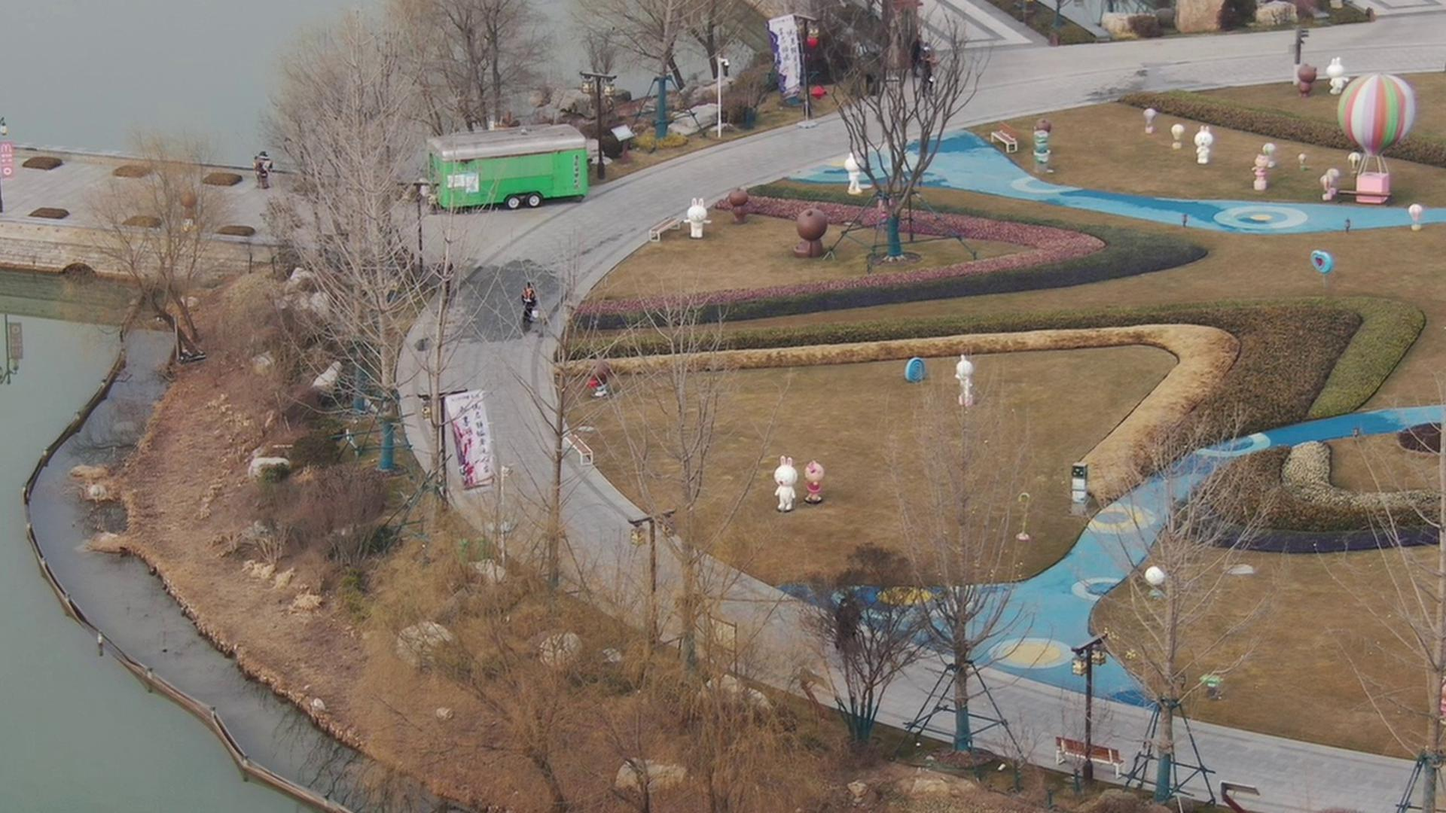class_2: (825, 588, 864, 657)
human: (426, 250, 455, 308), (511, 282, 537, 336)
